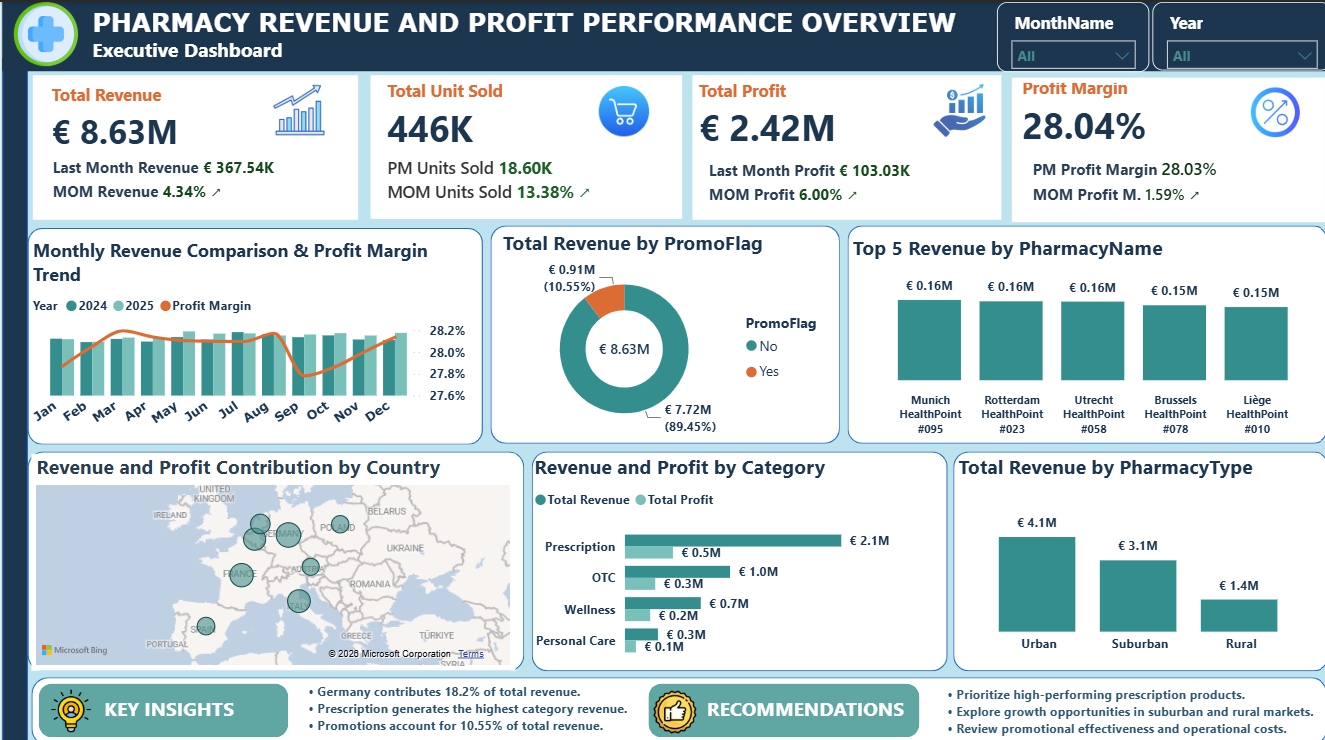

What the dashboard file says about the page in this screenshot:
{"tool":"powerbi","page":{"name":"Executive Dashboard","canvas":[1280,720],"ordinal":1},"visuals":[{"type":"shape","box":[28.8,649.1,1247.4,65.9],"z":0},{"type":"shape","box":[1.4,53.5,24.7,661.5],"z":1000},{"type":"shape","box":[26.1,432.3,477.6,211.3],"z":2000},{"type":"shape","box":[510.4,432.2,400,211.5],"z":3000},{"type":"shape","box":[915.9,432.3,362.2,211.4],"z":4000},{"type":"shape","box":[813.8,215.5,462.5,210],"z":5000},{"type":"shape","box":[470.7,215.5,336.2,210],"z":6000},{"type":"shape","box":[26.1,216.8,437.8,208.6],"z":7000},{"type":"shape","box":[0.7,0,1279.3,66.6],"z":8000},{"type":"cardVisual","fields":{"Data":["DAX.Total Revenue"]},"box":[26.1,65.9,323.9,149.6],"z":9000},{"type":"cardVisual","fields":{"Data":["DAX.Total Unit Sold"]},"box":[349.9,65.9,310.1,148.2],"z":10000},{"type":"cardVisual","fields":{"Data":["DAX.Total profit"]},"box":[660.1,65.9,307.4,149.6],"z":11000},{"type":"cardVisual","fields":{"Data":["DAX.Profit Margin"]},"box":[967.5,67.2,312.9,149.6],"z":12000},{"type":"textbox","box":[82.9,0,887.5,55],"z":13000},{"type":"slicer","fields":{"Values":["T_DimDate.Year"]},"box":[1107.1,0,172.9,65.9],"z":14000},{"type":"slicer","fields":{"Values":["T_DimDate.MonthName"]},"box":[957.9,0,146.8,67.2],"z":15000},{"type":"clusteredColumnChart","title":"Top 5 Revenue by PharmacyName","fields":{"Category":["T_DimPharmacy.PharmacyName"],"Y":["DAX.Total Revenue"]},"box":[813.8,223.7,462,201.7],"z":16000},{"type":"clusteredColumnChart","fields":{"Category":["T_DimPharmacy.PharmacyType"],"Y":["DAX.Total Revenue"]},"box":[915.9,434.6,359.8,202.1],"z":17000},{"type":"lineClusteredColumnComboChart","title":"Monthly Revenue Comparison & Profit Margin Trend","fields":{"Category":["T_DimDate.Month Short Form"],"Series":["T_DimDate.Year"],"Y":["DAX.Total Revenue"],"Y2":["DAX.Profit Margin"]},"box":[26.1,226.4,437.8,199],"z":18000},{"type":"clusteredBarChart","title":"Revenue and Profit by Category","fields":{"Category":["T_DimProduct.Category"],"Y":["DAX.Total Revenue","DAX.Total Profit"]},"box":[508.2,434.6,396,209.1],"z":19000},{"type":"image","box":[0,0,86.5,61.8],"z":20000},{"type":"textbox","box":[82.9,28,267.9,34.3],"z":21000},{"type":"image","box":[896.1,75.5,52.1,56.3],"z":24000},{"type":"image","box":[245.6,75.5,82.3,56.3],"z":25000},{"type":"map","title":"Revenue and Profit Contribution by Country","fields":{"Category":["T_DimPharmacy.Country"],"Size":["DAX.Total Revenue"]},"box":[28.8,435,465.2,208.6],"z":26000},{"type":"donutChart","fields":{"Category":["T_FactSales.PromoFlag"],"Y":["DAX.Total Revenue"]},"box":[477.6,218.2,329.4,205.8],"z":27000},{"type":"shape","box":[35.7,656,240.2,52.1],"z":28000},{"type":"shape","box":[623,656,260.7,52.1],"z":29000},{"type":"textbox","box":[281.3,649.1,370.5,65.9],"z":30000},{"type":"textbox","box":[896.1,651.9,384.3,68.6],"z":31000},{"type":"textbox","box":[673.8,662.8,203.1,41.2],"z":32000},{"type":"textbox","box":[94.7,662.8,167.4,45.3],"z":33000},{"type":"image","box":[623,662.8,50.8,41.2],"z":34000},{"type":"image","box":[43.9,661.5,46.7,41.2],"z":35000},{"type":"image","box":[1193.9,81,63.1,50.8],"z":35001},{"type":"image","box":[558.5,78.2,81,53.5],"z":35002}]}

Visuals, with their boxes in screenshot pixels (x1, y1, x2, y2), scaled from the page's 1280x720 canvas onto the 1325x740 screenshot:
shape: rect(30, 667, 1321, 735)
shape: rect(1, 55, 27, 735)
shape: rect(27, 444, 521, 661)
shape: rect(528, 444, 942, 662)
shape: rect(948, 444, 1323, 662)
shape: rect(842, 221, 1321, 437)
shape: rect(487, 221, 835, 437)
shape: rect(27, 223, 480, 437)
shape: rect(1, 0, 1324, 68)
cardVisual - DAX.Total Revenue: rect(27, 68, 362, 221)
cardVisual - DAX.Total Unit Sold: rect(362, 68, 683, 220)
cardVisual - DAX.Total profit: rect(683, 68, 1002, 221)
cardVisual - DAX.Profit Margin: rect(1002, 69, 1324, 223)
textbox: rect(86, 0, 1005, 57)
slicer - T_DimDate.Year: rect(1146, 0, 1324, 68)
slicer - T_DimDate.MonthName: rect(992, 0, 1144, 69)
"Top 5 Revenue by PharmacyName" clusteredColumnChart: rect(842, 230, 1321, 437)
clusteredColumnChart - T_DimPharmacy.PharmacyType x DAX.Total Revenue: rect(948, 447, 1321, 654)
"Monthly Revenue Comparison & Profit Margin Trend" lineClusteredColumnComboChart: rect(27, 233, 480, 437)
"Revenue and Profit by Category" clusteredBarChart: rect(526, 447, 936, 662)
image: rect(0, 0, 90, 64)
textbox: rect(86, 29, 363, 64)
image: rect(928, 78, 982, 135)
image: rect(254, 78, 339, 135)
"Revenue and Profit Contribution by Country" map: rect(30, 447, 511, 661)
donutChart - T_FactSales.PromoFlag x DAX.Total Revenue: rect(494, 224, 835, 436)
shape: rect(37, 674, 286, 728)
shape: rect(645, 674, 915, 728)
textbox: rect(291, 667, 675, 735)
textbox: rect(928, 670, 1324, 739)
textbox: rect(697, 681, 908, 724)
textbox: rect(98, 681, 271, 728)
image: rect(645, 681, 697, 724)
image: rect(45, 680, 94, 722)
image: rect(1236, 83, 1301, 135)
image: rect(578, 80, 662, 135)
